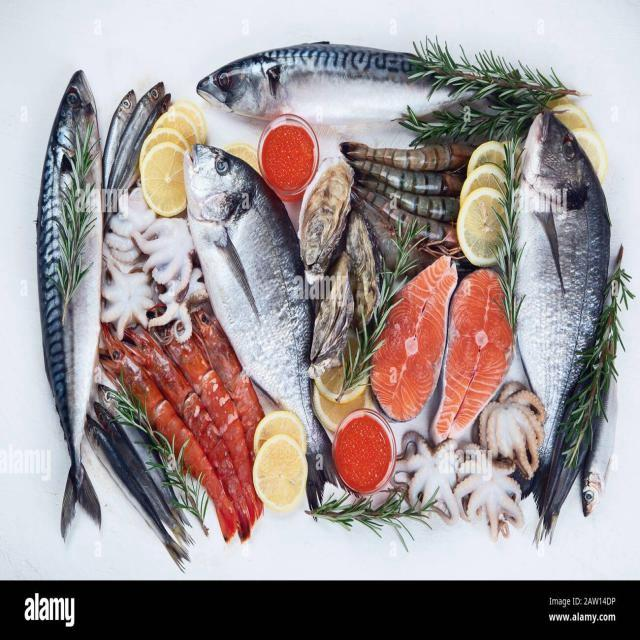fish: (183, 144, 335, 500), (515, 110, 609, 537), (36, 69, 102, 537), (195, 41, 451, 158), (102, 81, 170, 188)
